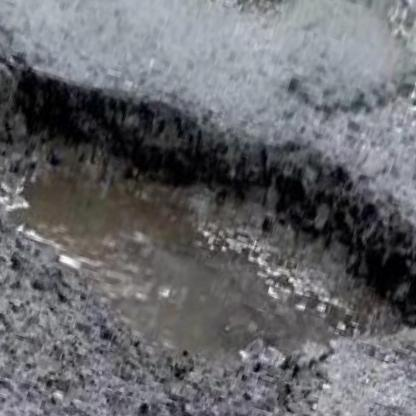pothole: (0, 26, 416, 416), (206, 0, 304, 24)
